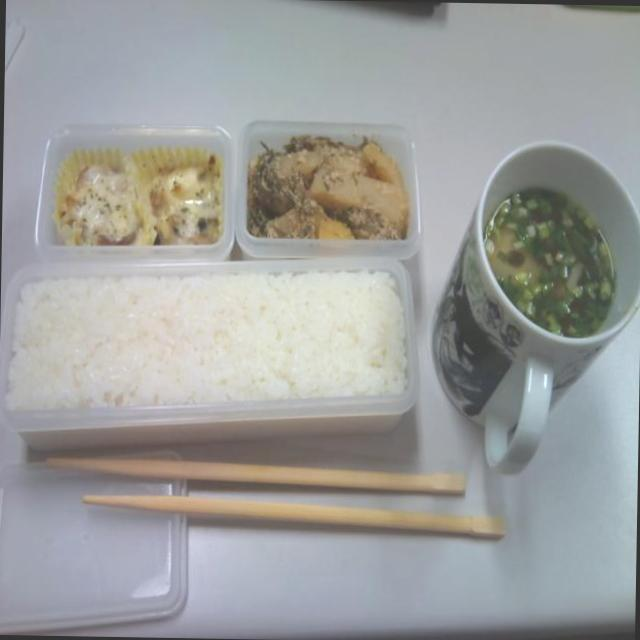Rice: (0, 267, 410, 432)
